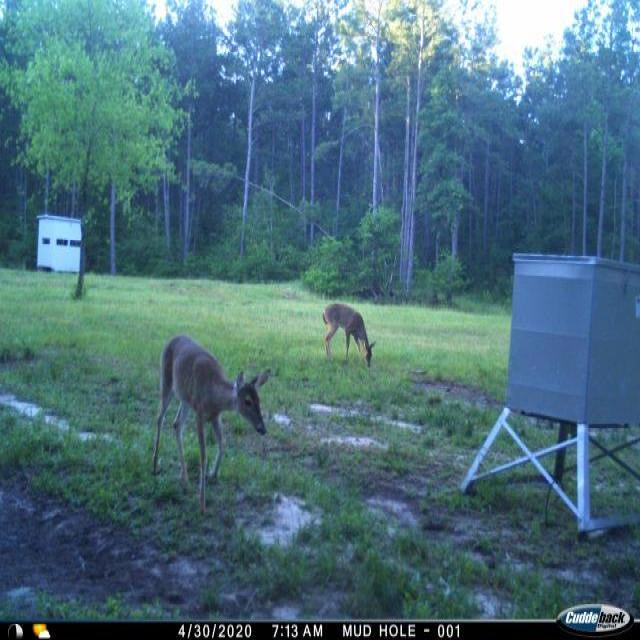deer: (148, 330, 274, 522), (318, 301, 378, 371)
